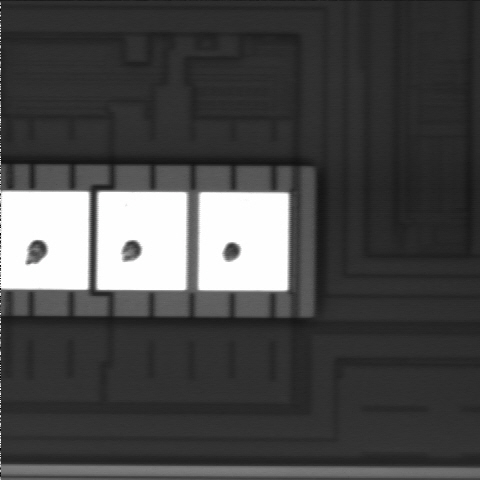pad: (198, 192, 289, 291), (97, 192, 187, 290)
